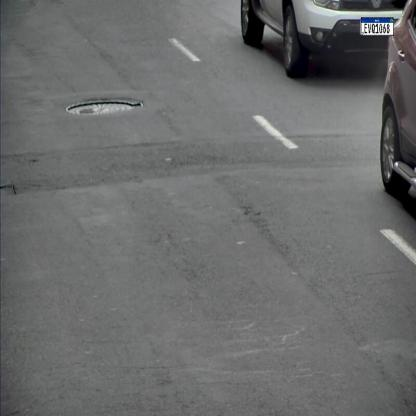PlacaM: (361, 17, 394, 36)
